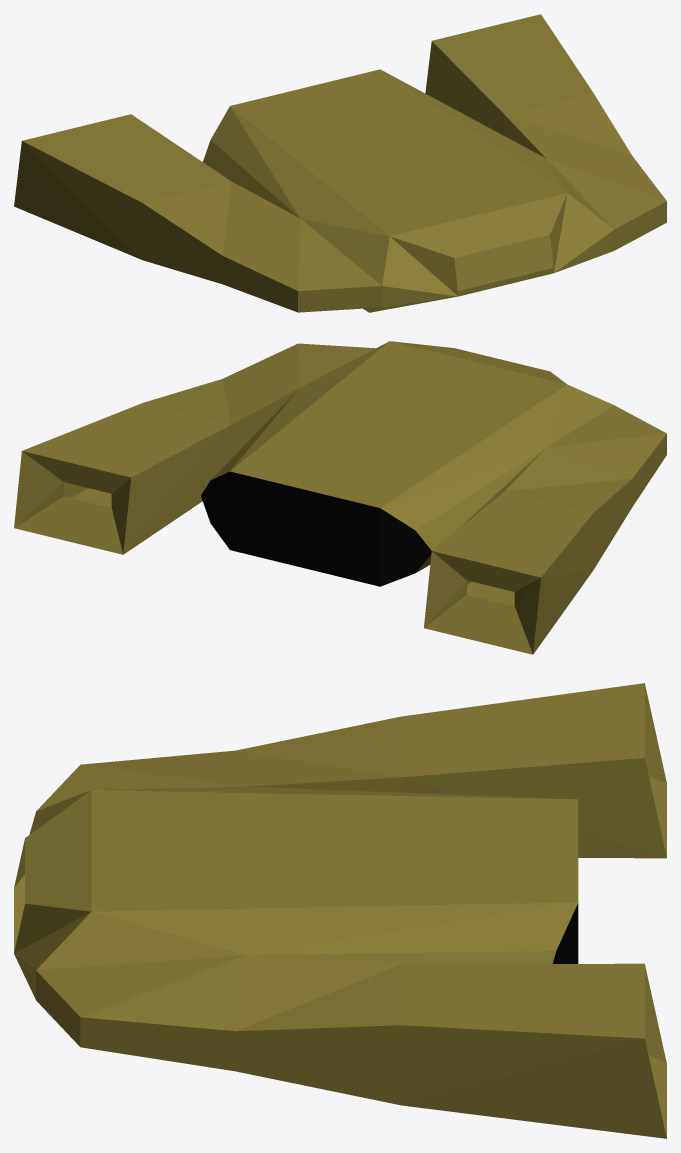
Rendered from inv_zamorak_robe_top.obj.
3 views of the same model, one above another, from view 1: azimuth 30°, elevation 25°; view 2: azimuth 150°, elevation 25°; view 3: azimuth 270°, elevation 25° (orthographic). The views are drawn at different scales.
Bounding box in the file's own units: 0.5938 × 0.0859 × 0.4609.
